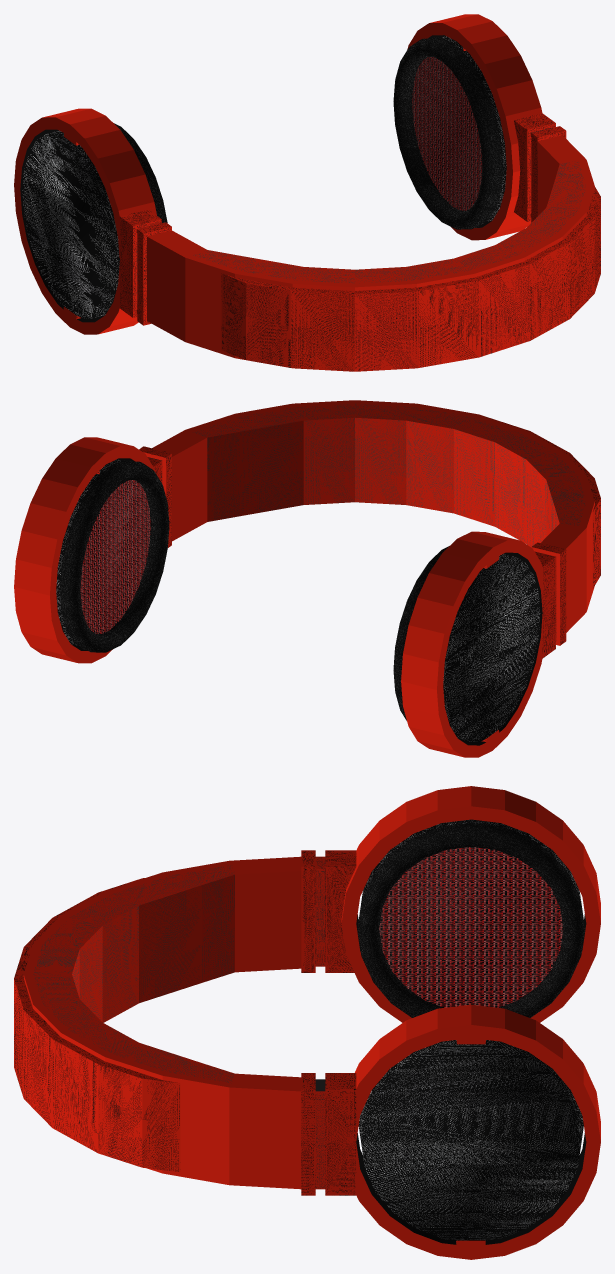
Rendered from model_scale.obj.
3 renders of one model, top to bottom at view 1: azimuth 30°, elevation 25°; view 2: azimuth 150°, elevation 25°; view 3: azimuth 270°, elevation 25°, orthographic. The views are drawn at different scales.
Visible parts, largest first — view 1: mesh25_mesh25-geometry, mesh12_mesh12-geometry, mesh6_mesh6-geometry, mesh19_mesh19-geometry, mesh26_mesh26-geometry, mesh13_mesh13-geometry, mesh14_mesh14-geometry, mesh1_mesh1-geometry; view 2: mesh12_mesh12-geometry, mesh25_mesh25-geometry, mesh6_mesh6-geometry, mesh19_mesh19-geometry, mesh26_mesh26-geometry, mesh13_mesh13-geometry, mesh14_mesh14-geometry, mesh1_mesh1-geometry; view 3: mesh6_mesh6-geometry, mesh12_mesh12-geometry, mesh19_mesh19-geometry, mesh25_mesh25-geometry, mesh13_mesh13-geometry, mesh26_mesh26-geometry, mesh1_mesh1-geometry, mesh14_mesh14-geometry.
Boxes of the visible parts, x1,y1,x2,y2 form: mesh25_mesh25-geometry: (147,230,478,371); mesh12_mesh12-geometry: (454,135,600,357); mesh6_mesh6-geometry: (393,35,506,229); mesh19_mesh19-geometry: (20,123,167,322); mesh26_mesh26-geometry: (14,108,156,334); mesh13_mesh13-geometry: (407,14,542,240); mesh14_mesh14-geometry: (119,209,171,325); mesh1_mesh1-geometry: (514,113,566,222); mesh12_mesh12-geometry: (152,400,478,541); mesh25_mesh25-geometry: (454,414,600,632); mesh6_mesh6-geometry: (56,458,169,652); mesh19_mesh19-geometry: (393,546,542,745); mesh26_mesh26-geometry: (401,531,542,757); mesh13_mesh13-geometry: (14,437,155,663); mesh14_mesh14-geometry: (531,542,566,658); mesh1_mesh1-geometry: (139,446,171,547); mesh6_mesh6-geometry: (356,1040,586,1244); mesh12_mesh12-geometry: (14,974,301,1189); mesh19_mesh19-geometry: (356,819,586,1017); mesh25_mesh25-geometry: (14,856,301,1022); mesh13_mesh13-geometry: (355,1004,600,1259); mesh26_mesh26-geometry: (341,786,600,1022); mesh1_mesh1-geometry: (301,1073,356,1195); mesh14_mesh14-geometry: (301,850,356,972).
Size of the model in its own units: 0.1371 by 0.0629 by 0.1424.
